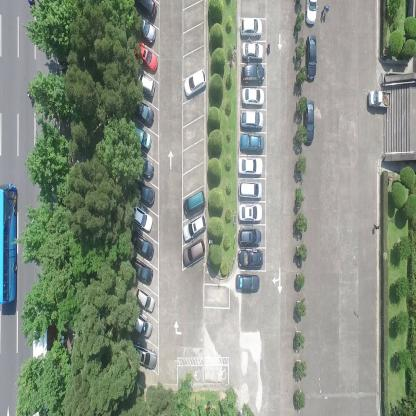car: (134, 40, 158, 73), (132, 341, 157, 371), (130, 254, 153, 286), (183, 68, 207, 98), (130, 229, 154, 259), (130, 178, 154, 208), (182, 238, 205, 268), (134, 14, 156, 45), (182, 215, 206, 243), (130, 98, 154, 126), (183, 189, 205, 218), (132, 204, 154, 233), (132, 153, 154, 181), (132, 310, 153, 339), (305, 32, 317, 81), (302, 98, 314, 146), (237, 156, 263, 178), (238, 132, 265, 153), (131, 124, 152, 151), (135, 72, 156, 99), (135, 287, 155, 314), (240, 109, 264, 131), (238, 202, 262, 224), (235, 274, 260, 295), (238, 250, 264, 270), (241, 63, 265, 84), (134, 0, 158, 21), (367, 89, 390, 110), (239, 18, 263, 38), (240, 87, 264, 107), (241, 42, 264, 61), (238, 228, 261, 247), (238, 182, 263, 199), (304, 0, 318, 28)
